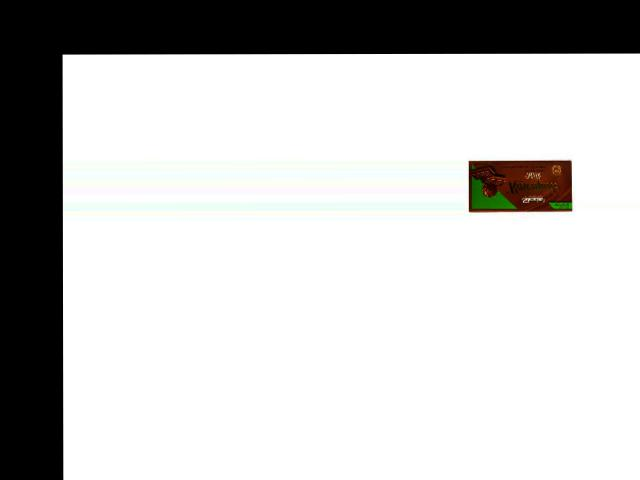chocolate: (467, 158, 575, 216)
